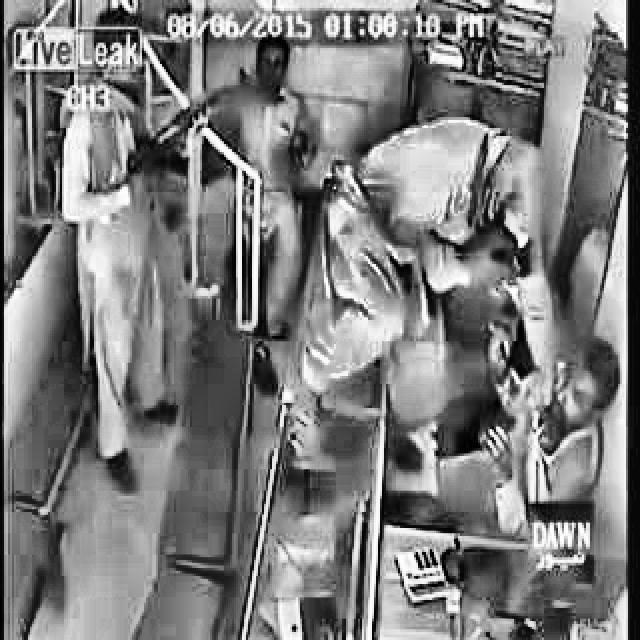Weapon: (466, 312, 640, 564), (385, 92, 545, 278), (239, 24, 347, 134), (79, 8, 185, 116)
